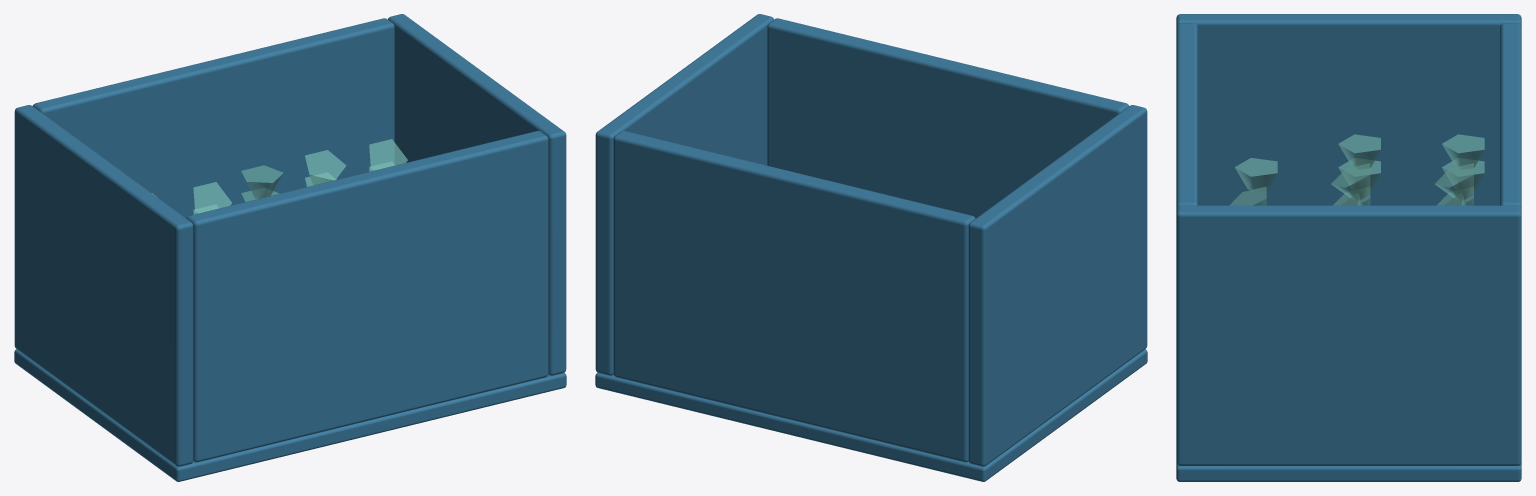
The model's file is recycling-centre-and-material-sorting-glass-cullet-bin-c5122599__31131.glb.
The picture shows the model from 3 angles, left to right: view 1: azimuth 30°, elevation 25°; view 2: azimuth 150°, elevation 25°; view 3: azimuth 270°, elevation 25°; orthographic projection. The views are drawn at different scales.
Visible parts, largest first — view 1: glass-cullet-bin; view 2: glass-cullet-bin; view 3: glass-cullet-bin.
Boxes of the visible parts, bbox=[...] form: glass-cullet-bin: bbox=[14, 14, 566, 481]; glass-cullet-bin: bbox=[595, 14, 1147, 481]; glass-cullet-bin: bbox=[1176, 14, 1521, 481].
Size of the model in its own units: 1.1 by 0.69 by 0.8.
